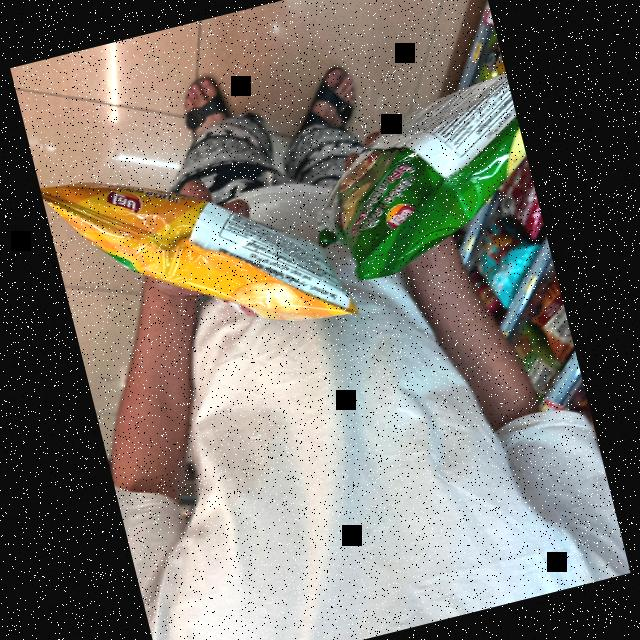snack_bag: (39, 113, 367, 390), (305, 76, 549, 298)
